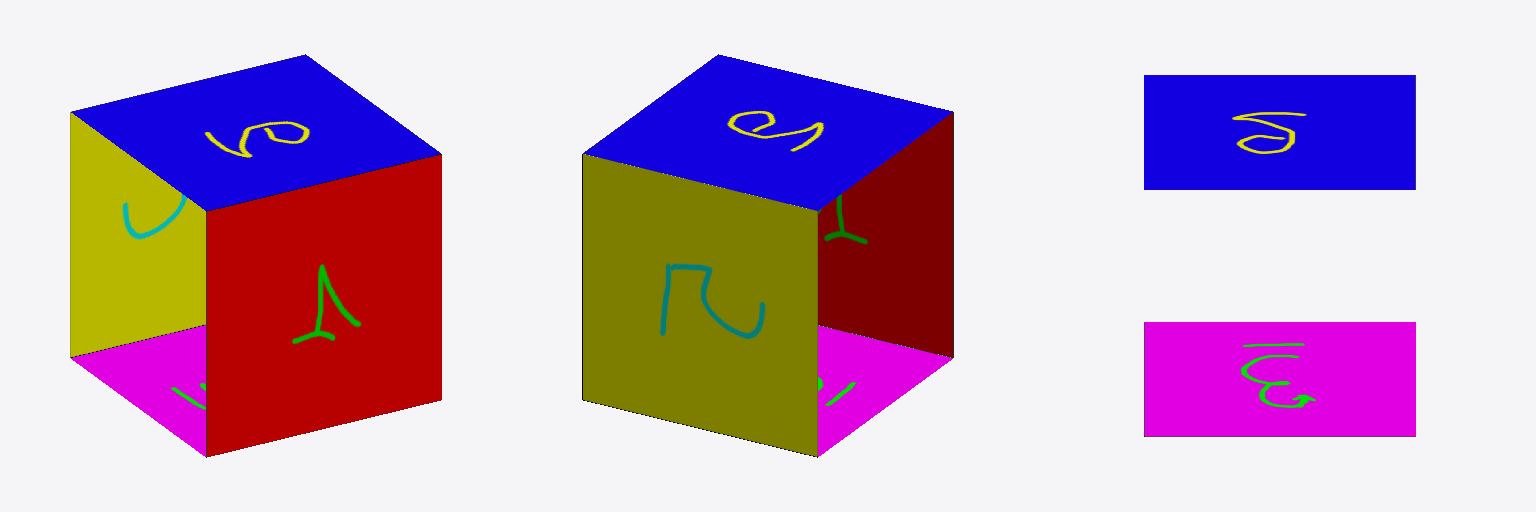
3 renders of one model, left to right at view 1: azimuth 30°, elevation 25°; view 2: azimuth 150°, elevation 25°; view 3: azimuth 270°, elevation 25°, orthographic.
Parts seen in each view (by area): view 1: Cube; view 2: Cube; view 3: Cube.
Part boxes in pixels (x1,y1,x2,y2): Cube: (70,54,441,457); Cube: (582,54,953,457); Cube: (1144,75,1415,436).
Bounding box in the file's own units: 30.98 × 30.98 × 30.98.
1 materials, 1 textured.